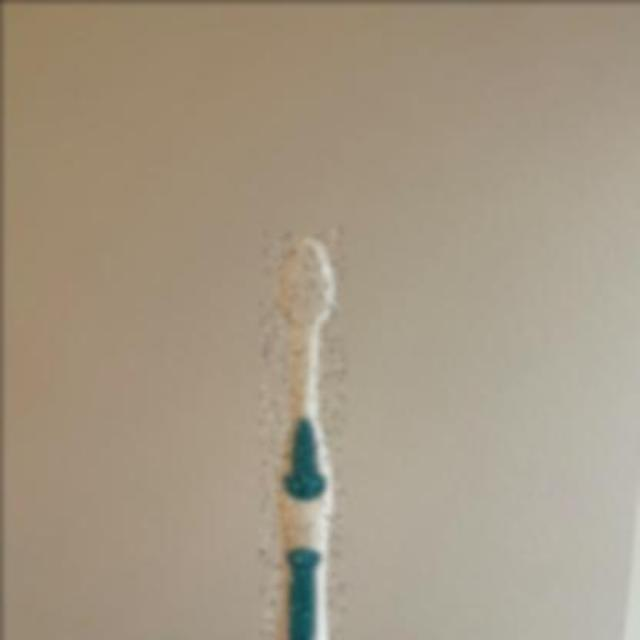toothbrush: (259, 226, 343, 640)
